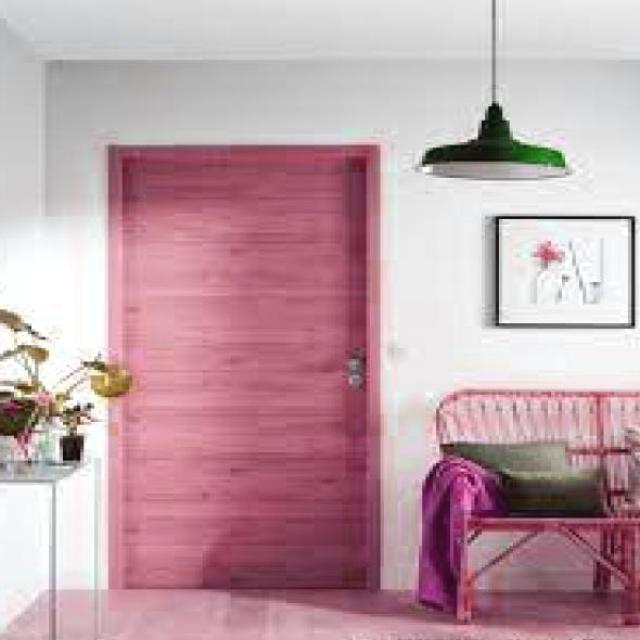door: (106, 142, 380, 591)
